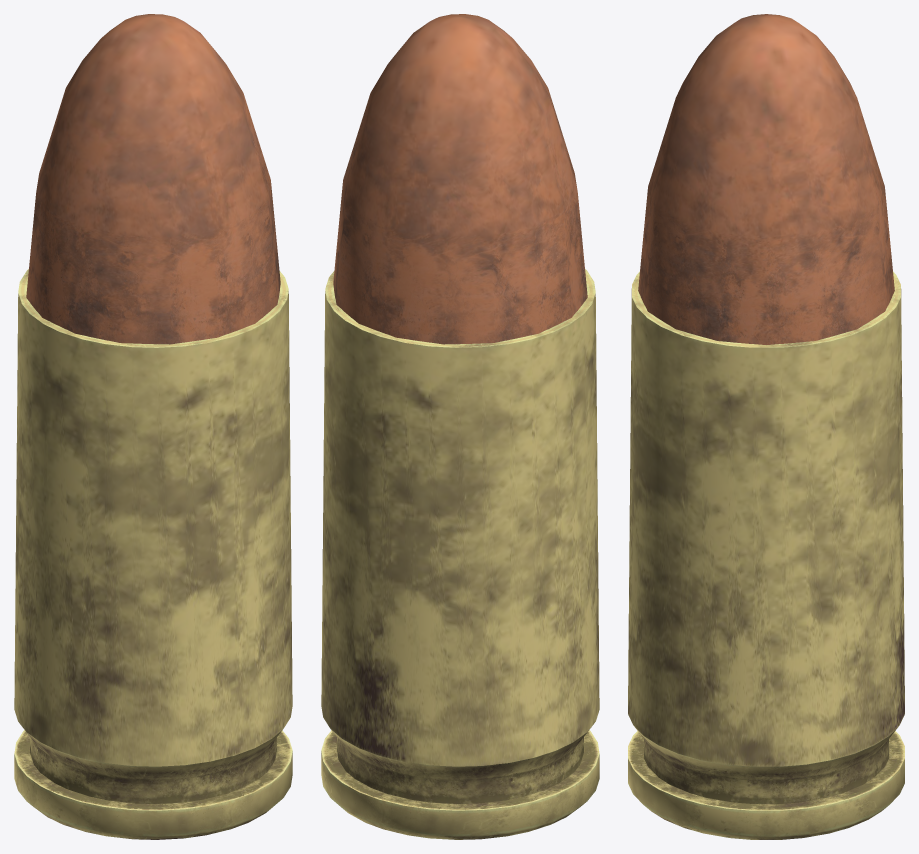
The picture shows the model from 3 angles, left to right: view 1: azimuth 30°, elevation 25°; view 2: azimuth 150°, elevation 25°; view 3: azimuth 270°, elevation 25°; orthographic projection.
Visible parts, largest first — view 1: casing_low, bullet_low; view 2: casing_low, bullet_low; view 3: casing_low, bullet_low.
Part boxes in pixels (x1,y1,x2,y2): casing_low: (14, 269, 292, 839); bullet_low: (26, 14, 280, 344); casing_low: (321, 269, 599, 839); bullet_low: (333, 14, 587, 344); casing_low: (628, 271, 904, 839); bullet_low: (638, 14, 894, 344).
Size of the model in its own units: 0.00655 by 0.00655 by 0.02.
2 materials, 2 textured.
